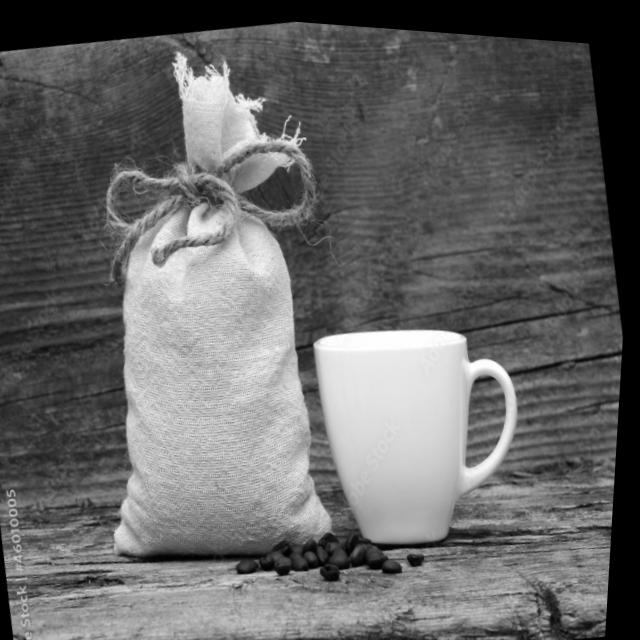sack: (35, 28, 366, 580)
